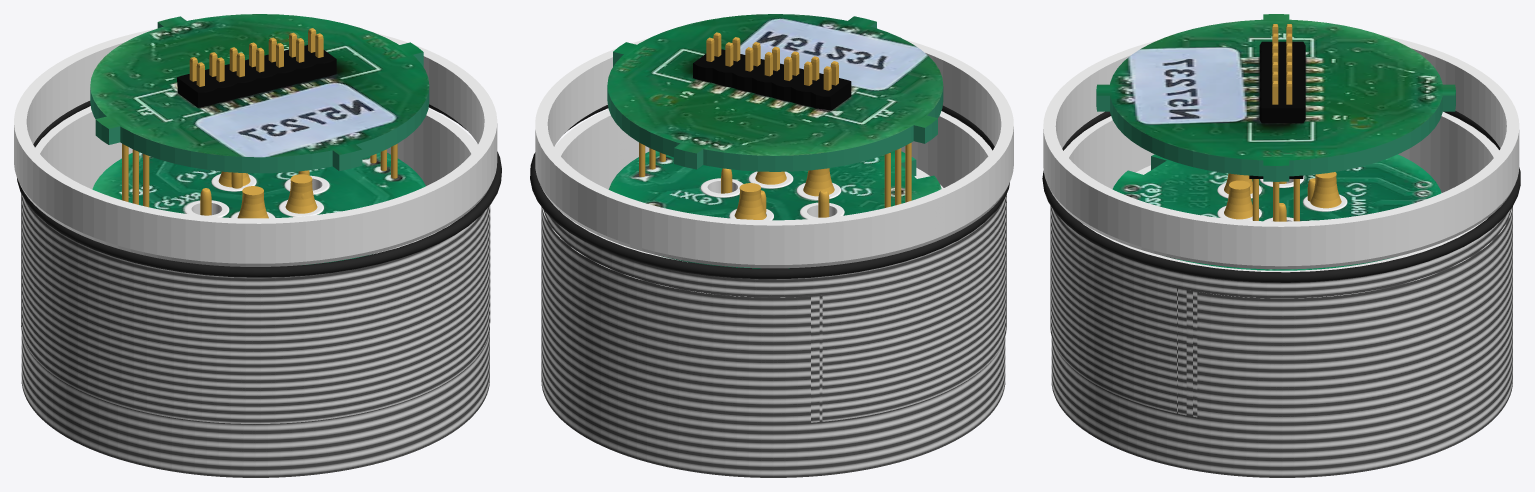
The model's file is chip sotto.glb.
3 views of the same model, side by side, from view 1: azimuth 30°, elevation 25°; view 2: azimuth 150°, elevation 25°; view 3: azimuth 270°, elevation 25° (orthographic).
Visible parts, largest first — view 1: 02.FilettaturaValv_Valv..003; view 2: 02.FilettaturaValv_Valv..003; view 3: 02.FilettaturaValv_Valv..003.
Boxes of the visible parts, box(x1,y1,x2,y2) form: 02.FilettaturaValv_Valv..003: box(14, 14, 501, 477); 02.FilettaturaValv_Valv..003: box(530, 14, 1013, 477); 02.FilettaturaValv_Valv..003: box(1042, 14, 1520, 477).
Bounding box in the file's own units: 0.7742 × 0.581 × 0.7688.
Materials: 13 (6 with a texture image).
